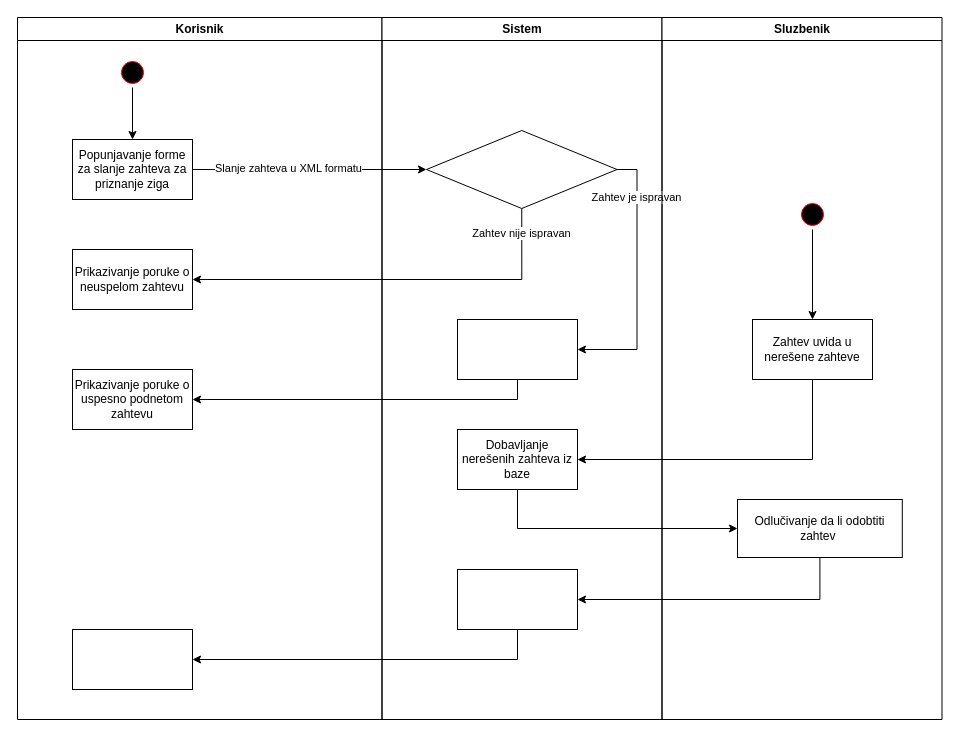
The diagram is 960 pixels wide and 737 high, and some of its shapes have lost their labels. Here are the shapes that lost their labels. From the top down, the centre of each, then its label:
At [521,169]: "Provera da li je zahtev ispravan".
At [517,349]: "Cuvanje zahteva u bazu".
At [517,599]: "Cuvanje donešene odluke u bazu".
At [132,659]: "Prikaziivanje klijentu informacije o donešenoj odluci".
